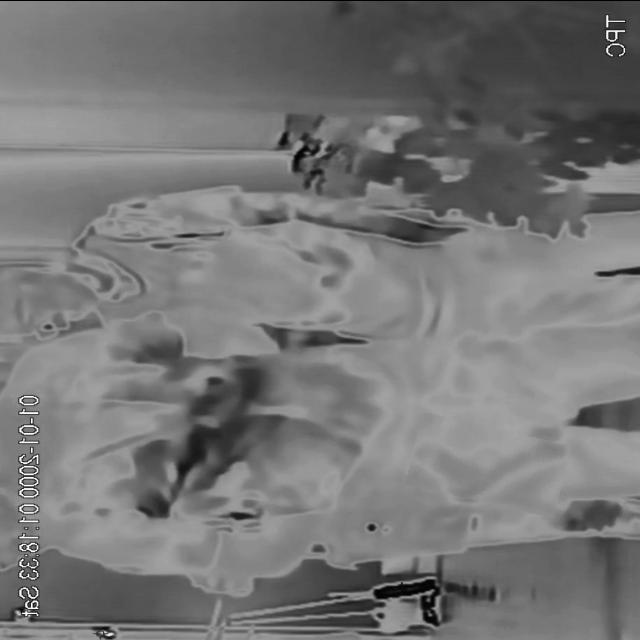Weapon: (408, 418, 567, 509)
